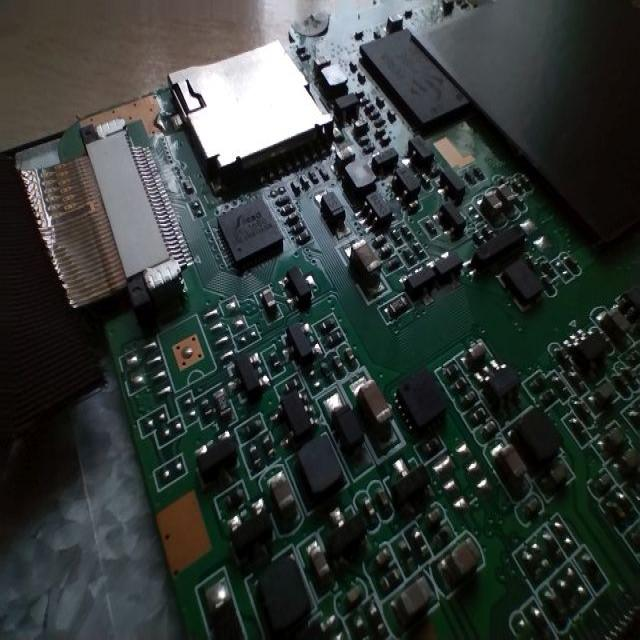capacitor: (431, 522, 495, 602), (352, 360, 402, 455), (482, 431, 535, 507), (332, 225, 384, 295), (259, 459, 307, 533), (294, 528, 340, 587)
